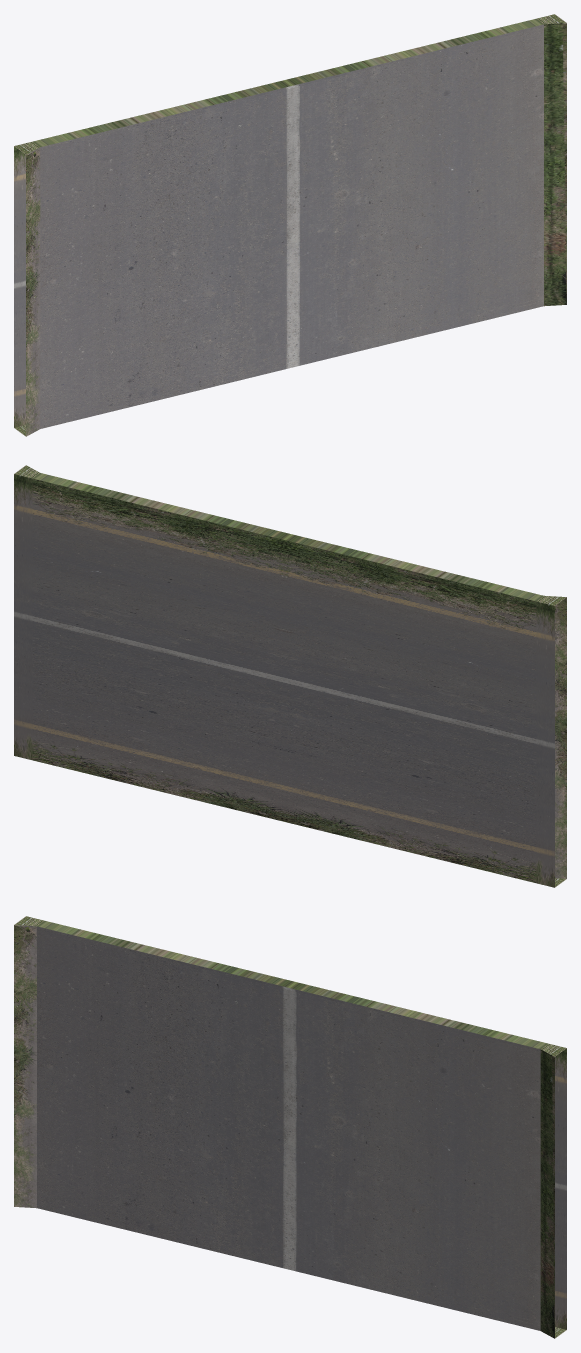
File: Road.034.obj
3 renders of one model, top to bottom at view 1: azimuth 30°, elevation 25°; view 2: azimuth 150°, elevation 25°; view 3: azimuth 330°, elevation 25°, orthographic.
Parts seen in each view (by area): view 1: Road.034_Plane.035; view 2: Road.034_Plane.035; view 3: Road.034_Plane.035.
Part boxes in pixels (left/top/right/bottom): Road.034_Plane.035: left=14, top=14, right=566, bottom=436; Road.034_Plane.035: left=14, top=465, right=566, bottom=887; Road.034_Plane.035: left=14, top=916, right=566, bottom=1338.
Bounding box in the file's own units: 2.01 × 1 × 0.0782.
1 material, 1 textured.
